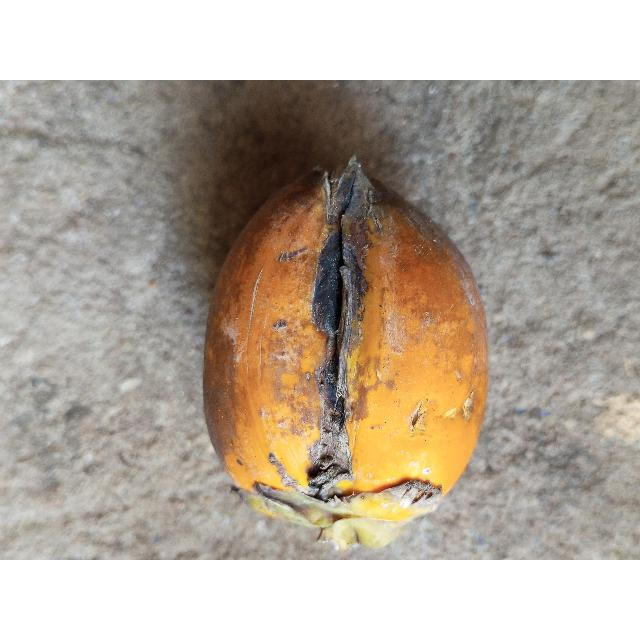damaged: (202, 158, 490, 550)
